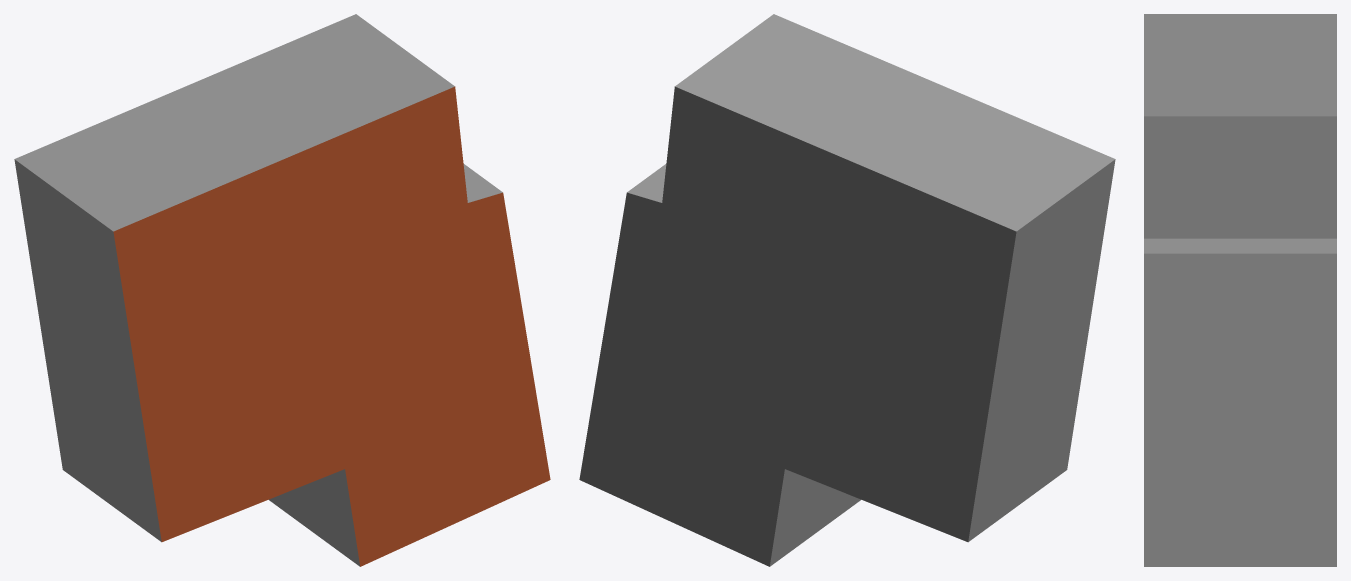
The model's file is construction_0842_assumed_A_Casa_h6m.obj.
3 views of the same model, side by side, from view 1: azimuth 30°, elevation 25°; view 2: azimuth 150°, elevation 25°; view 3: azimuth 270°, elevation 25° (orthographic). The views are drawn at different scales.
Visible parts, largest first — view 1: construction_0842_assumed_A_Casa; view 2: construction_0842_assumed_A_Casa; view 3: construction_0842_assumed_A_Casa.
Part boxes in pixels (<box>): construction_0842_assumed_A_Casa: <box>14,14,550,566</box>; construction_0842_assumed_A_Casa: <box>579,14,1115,566</box>; construction_0842_assumed_A_Casa: <box>1144,14,1336,566</box>.
Bounding box in the file's own units: 15.29 × 15.29 × 6.
